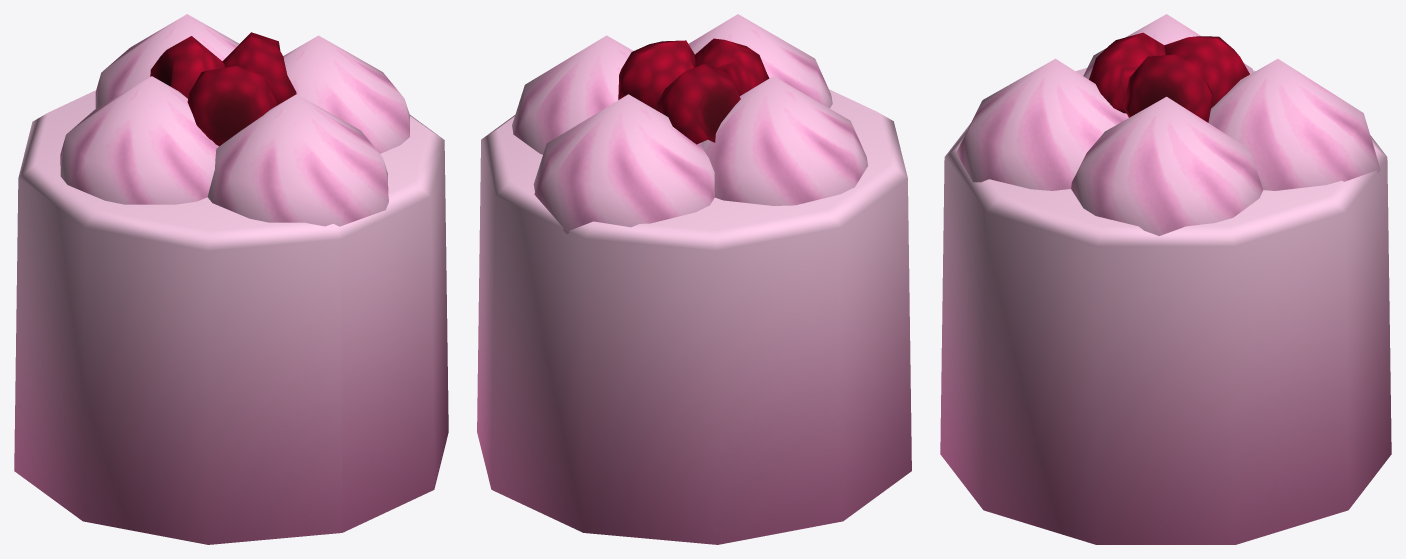
The model's file is Raspberry_Small.fbx.
3 renders of one model, left to right at view 1: azimuth 30°, elevation 25°; view 2: azimuth 150°, elevation 25°; view 3: azimuth 270°, elevation 25°, orthographic.
Parts seen in each view (by area): view 1: Raspberry_Small; view 2: Raspberry_Small; view 3: Raspberry_Small.
Part boxes in pixels (x1,y1,x2,y2): Raspberry_Small: [14, 14, 448, 544]; Raspberry_Small: [477, 14, 911, 544]; Raspberry_Small: [940, 14, 1391, 544].
Bounding box in the file's own units: 36.87 × 39.08 × 38.77.
